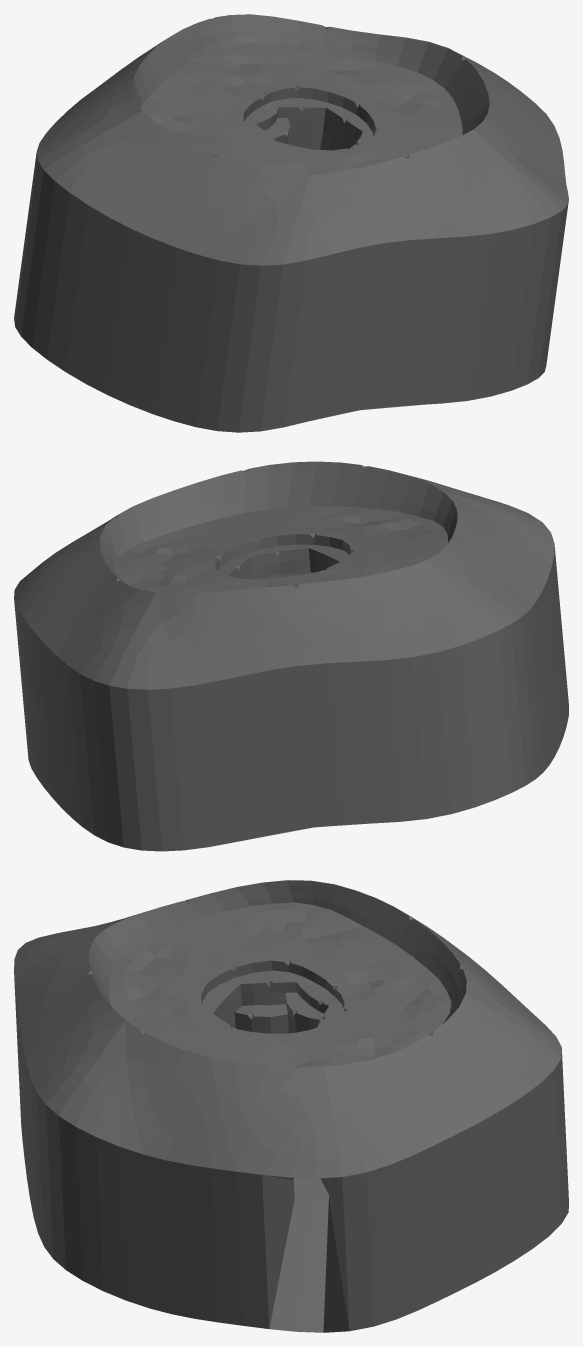
Rendered from models.glb.
3 views of the same model, one above another, from view 1: azimuth 30°, elevation 25°; view 2: azimuth 150°, elevation 25°; view 3: azimuth 270°, elevation 25° (orthographic). The views are drawn at different scales.
Visible parts, largest first — view 1: moon_level; view 2: moon_level; view 3: moon_level.
Boxes of the visible parts, x1,y1,x2,y2 form: moon_level: (14, 14, 568, 432); moon_level: (14, 461, 568, 851); moon_level: (14, 880, 568, 1332).
Size of the model in its own units: 101 by 51.45 by 95.47.
1 material, 1 textured.
